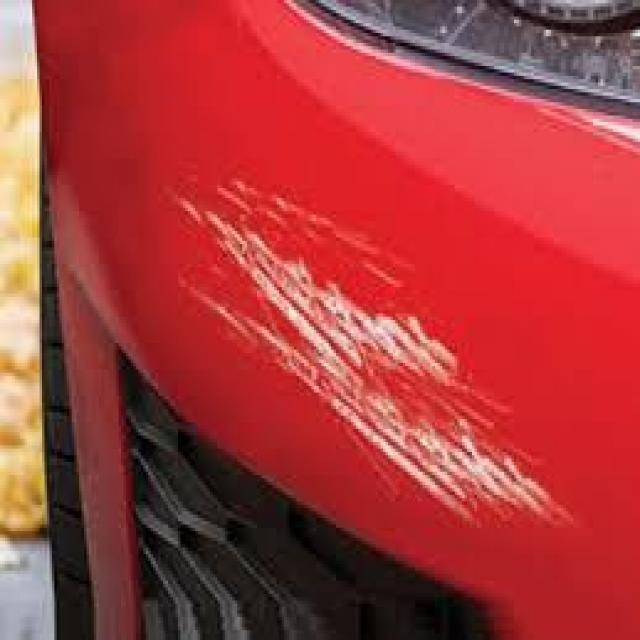scratch: (164, 150, 582, 546)
